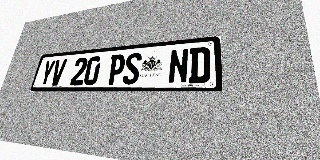0: (83, 56, 102, 85)
2: (70, 57, 89, 85)
D: (188, 46, 210, 83)
N: (168, 48, 189, 84)
P: (106, 54, 126, 85)
S: (122, 52, 142, 85)
V: (49, 59, 67, 86)
Y: (38, 60, 56, 86)
